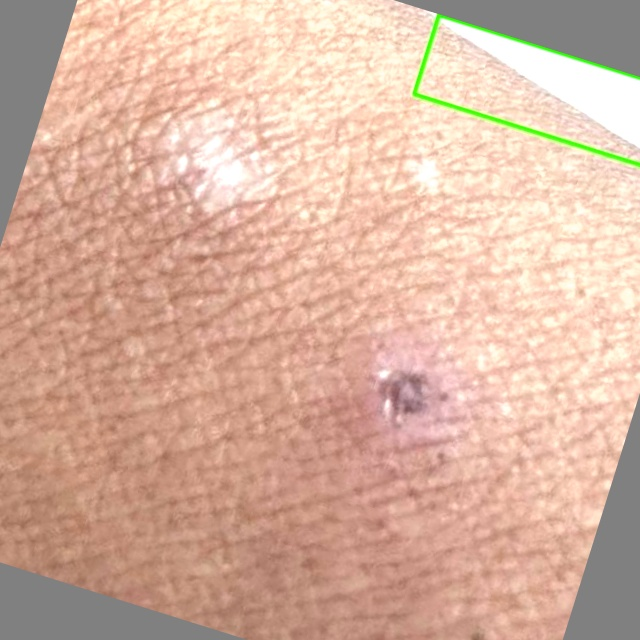Scabies: (414, 14, 639, 164)
